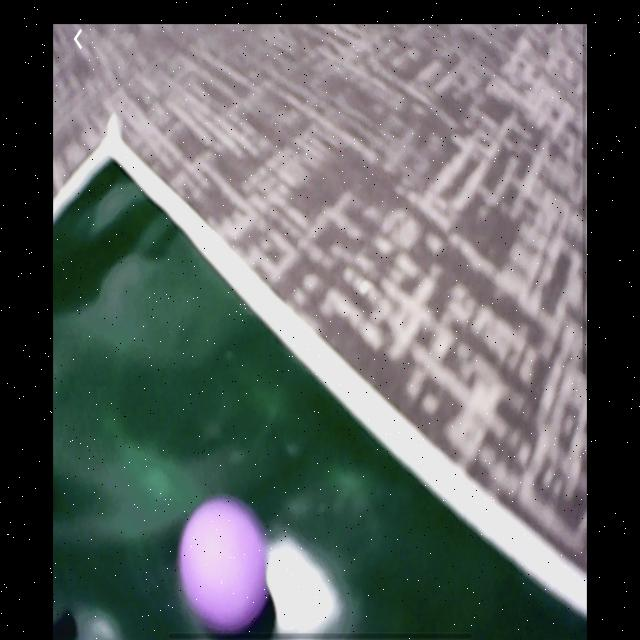ball: (180, 502, 270, 635)
